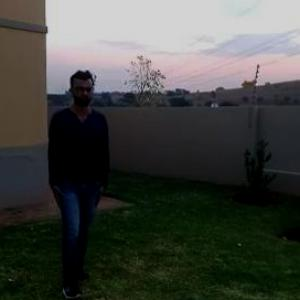follow: (44, 72, 109, 261)
